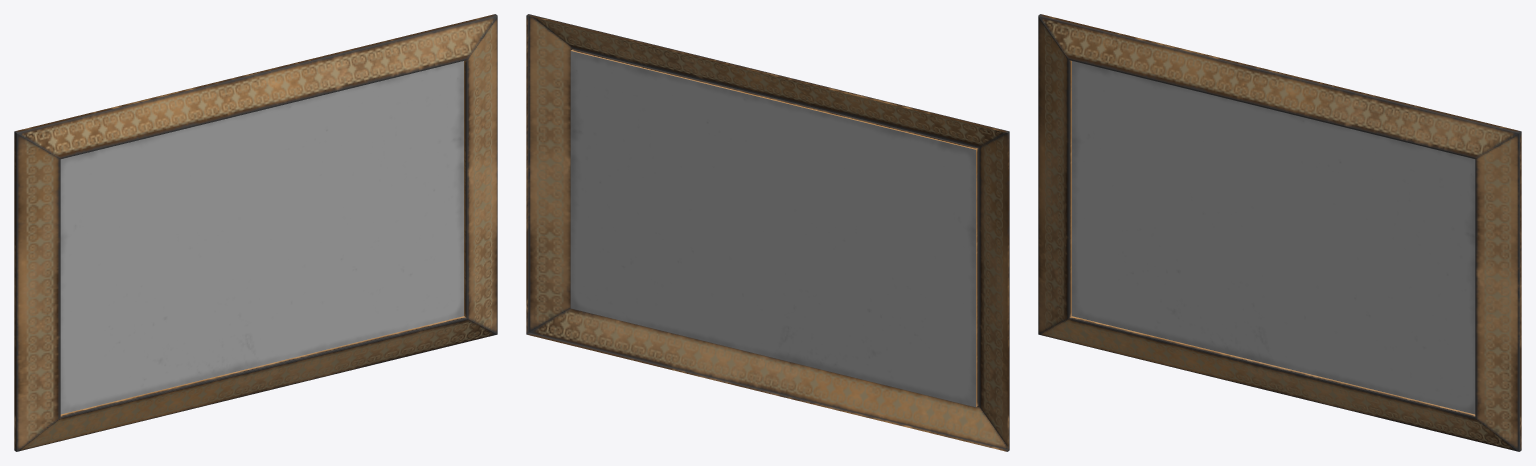
File: SM_Espejo_001.fbx
3 views of the same model, side by side, from view 1: azimuth 30°, elevation 25°; view 2: azimuth 150°, elevation 25°; view 3: azimuth 330°, elevation 25° (orthographic).
Parts seen in each view (by area): view 1: SM_Espejo_001; view 2: SM_Espejo_001; view 3: SM_Espejo_001.
Part boxes in pixels (x1,y1,x2,y2): SM_Espejo_001: [14, 14, 497, 451]; SM_Espejo_001: [526, 14, 1009, 451]; SM_Espejo_001: [1038, 14, 1521, 451].
Bounding box in the file's own units: 176 × 112 × 5.62.
